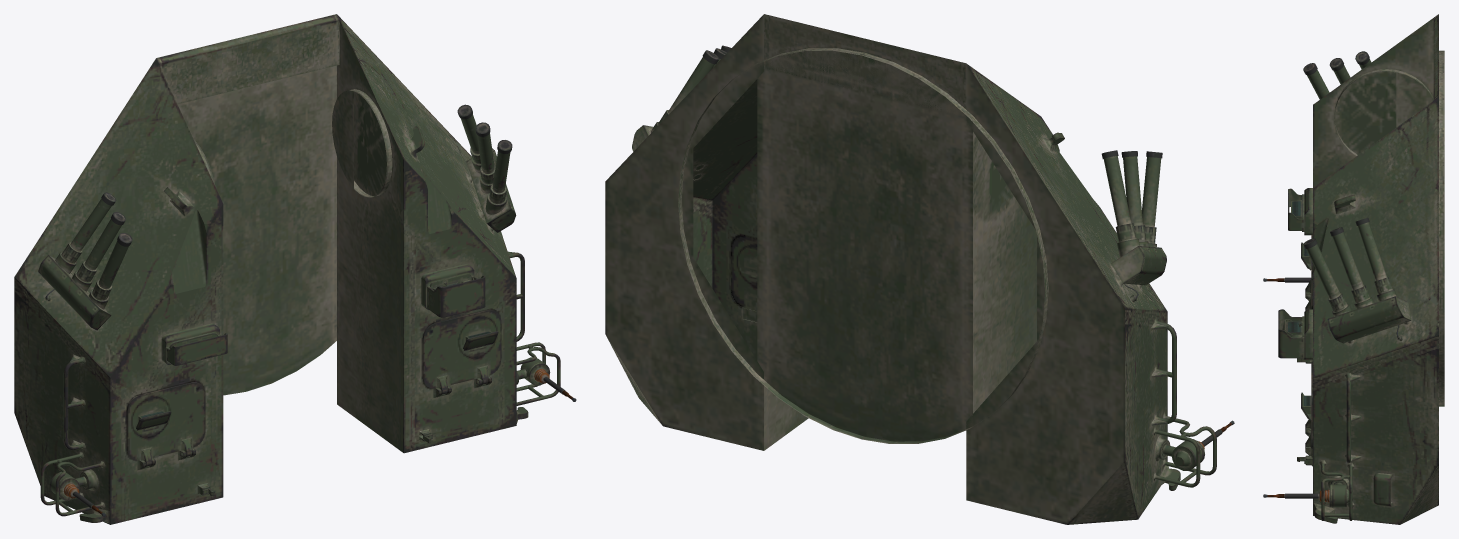
Rendered from Turret_01.glb.
The picture shows the model from 3 angles, left to right: view 1: azimuth 30°, elevation 25°; view 2: azimuth 150°, elevation 25°; view 3: azimuth 270°, elevation 25°; orthographic projection. The views are drawn at different scales.
Parts seen in each view (by area): view 1: set_0_group_0; view 2: set_0_group_0; view 3: set_0_group_0.
Part boxes in pixels (x1,y1,x2,y2): set_0_group_0: [14, 14, 576, 524]; set_0_group_0: [605, 14, 1234, 524]; set_0_group_0: [1263, 14, 1444, 524].
Bounding box in the file's own units: 3.24 × 2.4 × 1.07.
1 material, 1 textured.
